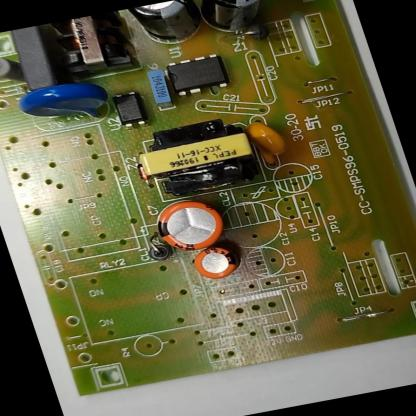Cap1: (144, 192, 233, 258)
Cap2: (184, 239, 246, 285)
Cap3: (118, 0, 212, 53)
Cap4: (194, 0, 287, 40)
MOSFET: (162, 49, 233, 98)
Mov: (12, 73, 118, 138)
Resistor: (0, 50, 34, 93)
Transformer: (127, 112, 268, 204), (42, 9, 145, 82)
